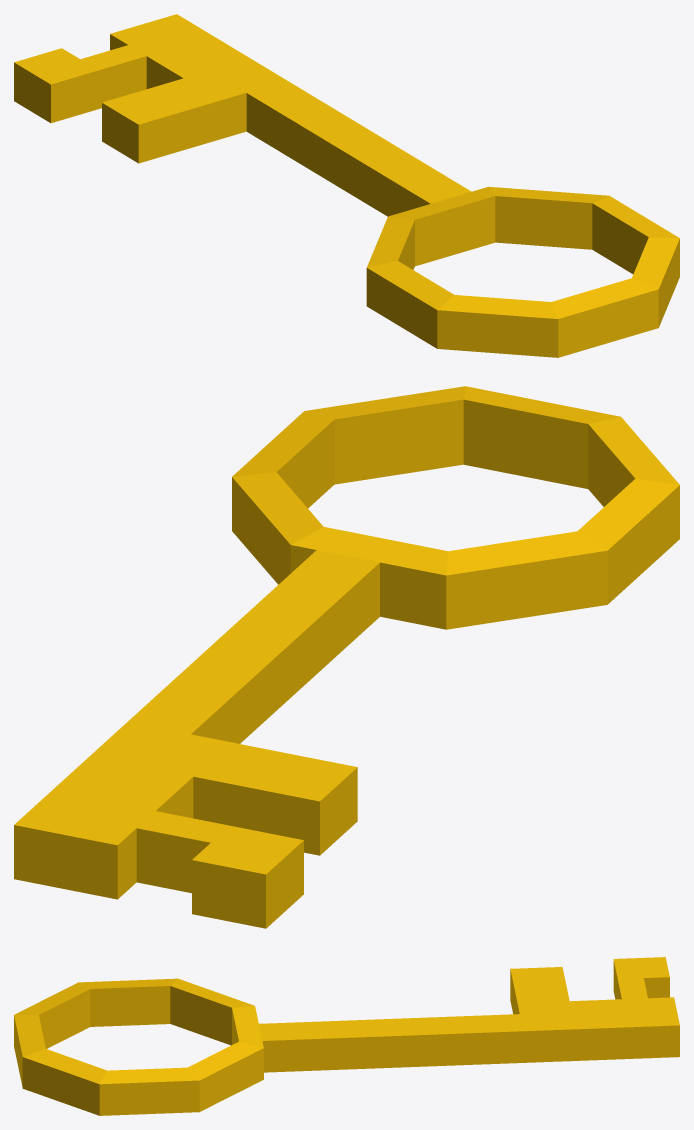
The model's file is Key.glb.
3 views of the same model, one above another, from view 1: azimuth 30°, elevation 25°; view 2: azimuth 150°, elevation 25°; view 3: azimuth 270°, elevation 25° (orthographic). The views are drawn at different scales.
Parts seen in each view (by area): view 1: key_1; view 2: key_1; view 3: key_1.
Boxes of the visible parts, <box> form: key_1: <box>14,14,679,357</box>; key_1: <box>14,386,679,928</box>; key_1: <box>14,957,679,1115</box>.
Bounding box in the file's own units: 0.4572 × 0.0637 × 1.01.
1 material, 1 textured.
